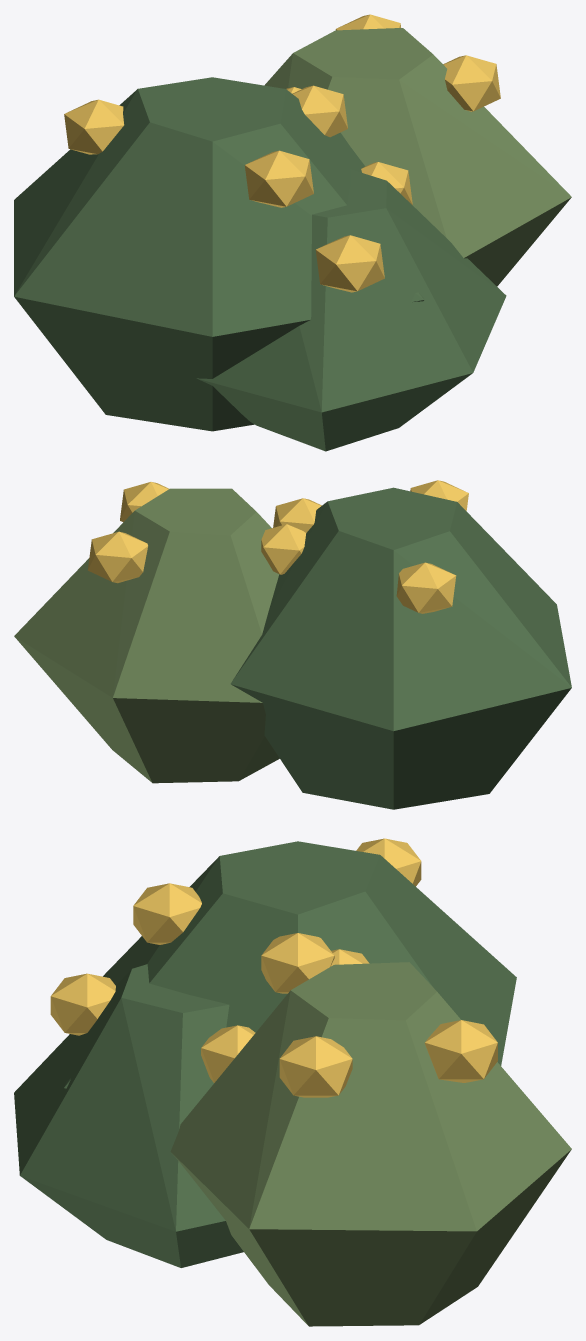
The model's file is gorse_v1530_01.glb.
3 renders of one model, top to bottom at view 1: azimuth 30°, elevation 25°; view 2: azimuth 150°, elevation 25°; view 3: azimuth 270°, elevation 25°, orthographic. The views are drawn at different scales.
Visible parts, largest first — view 1: gorse_v1530_01; view 2: gorse_v1530_01; view 3: gorse_v1530_01.
Boxes of the visible parts, box(x1,y1,x2,y2) form: gorse_v1530_01: box(14, 14, 571, 451); gorse_v1530_01: box(14, 480, 571, 809); gorse_v1530_01: box(14, 838, 571, 1326).
Bounding box in the file's own units: 0.8805 × 0.4391 × 0.7136.
